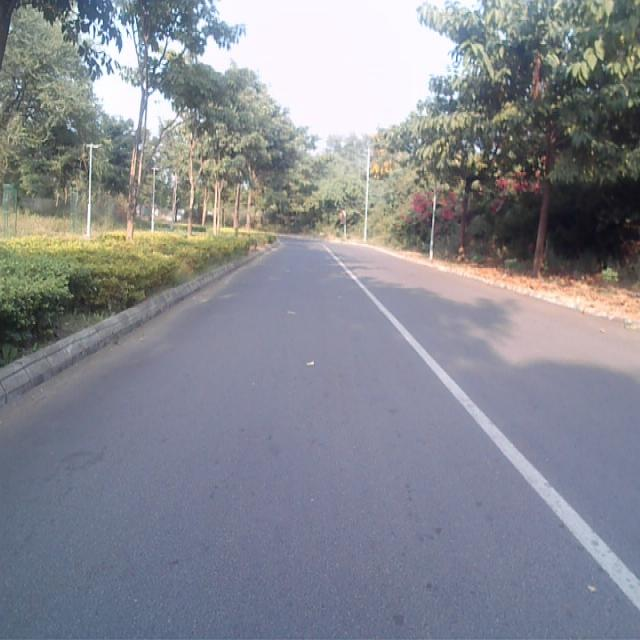lane: (0, 246, 640, 640)
